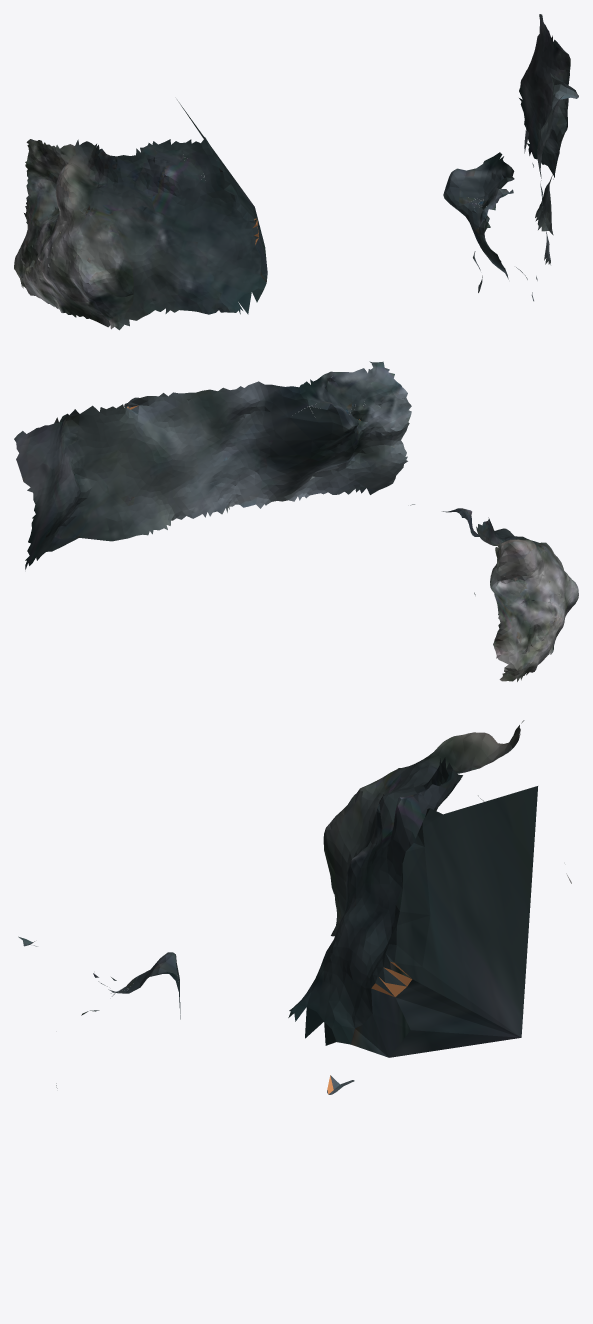
File: tile_0372.gltf
3 renders of one model, top to bottom at view 1: azimuth 30°, elevation 25°; view 2: azimuth 150°, elevation 25°; view 3: azimuth 270°, elevation 25°, orthographic. The views are drawn at different scales.
Visible parts, largest first — view 1: defaultobject; view 2: defaultobject; view 3: defaultobject.
Part boxes in pixels (box(x1,y1,x2,y2)): defaultobject: box(14, 14, 578, 330); defaultobject: box(14, 361, 578, 681); defaultobject: box(18, 720, 571, 1094).
Bounding box in the file's own units: 0.6941 × 0.2013 × 0.4055.
2 materials, 2 textured.
